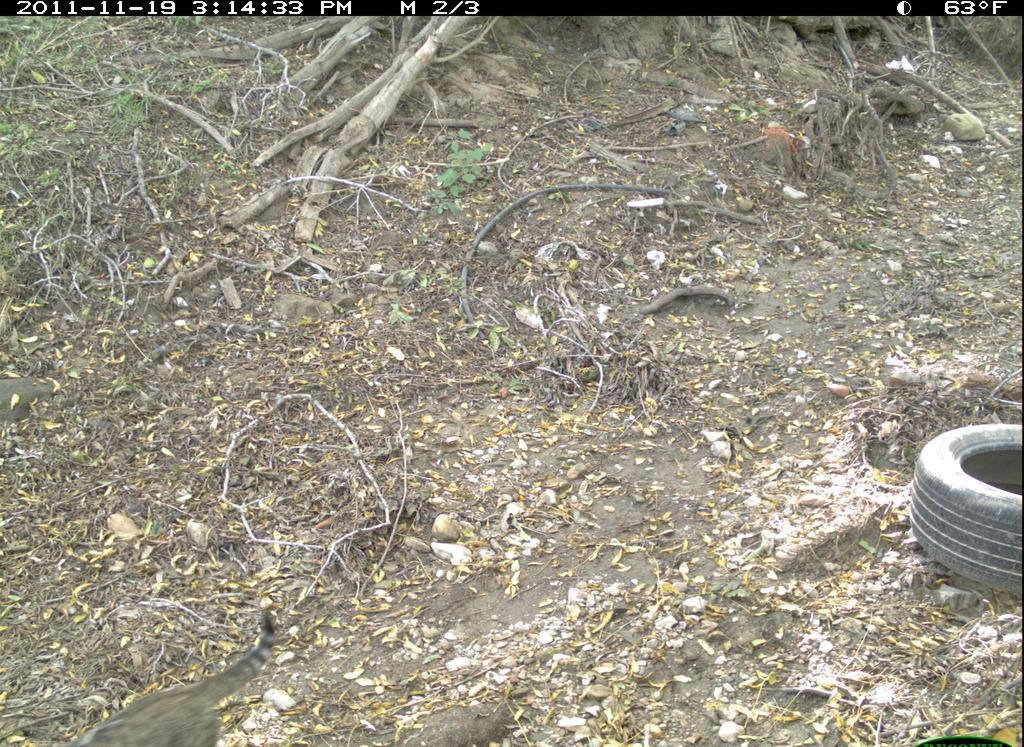cat: (48, 605, 308, 747)
